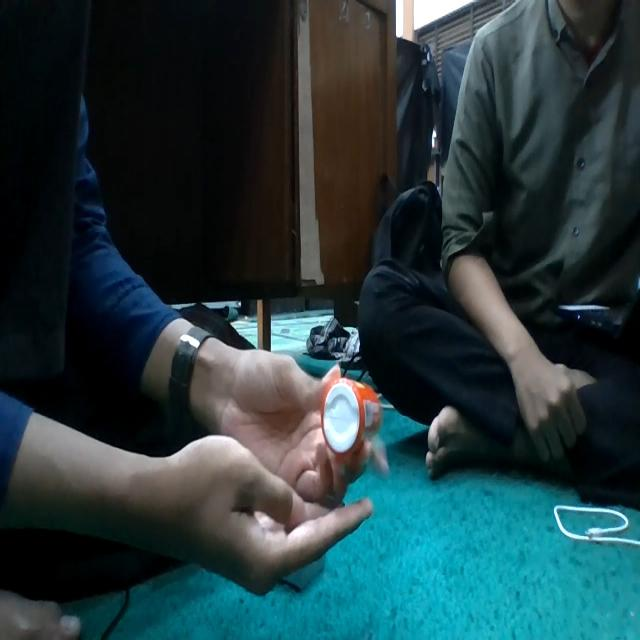Boncabe: (322, 378, 374, 455)
Powerbank: (281, 559, 325, 591)
